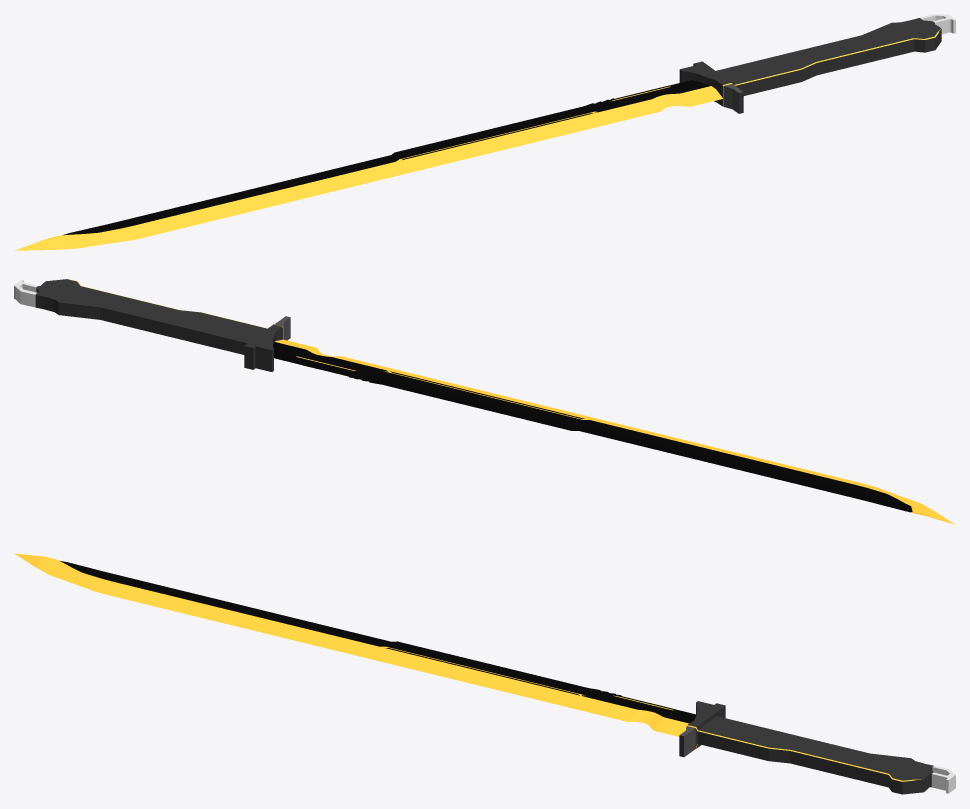
File: Sword.fbx
The picture shows the model from 3 angles, top to bottom: view 1: azimuth 30°, elevation 25°; view 2: azimuth 150°, elevation 25°; view 3: azimuth 330°, elevation 25°; orthographic projection.
Parts seen in each view (by area): view 1: Blade, SwordHold; view 2: Blade, SwordHold; view 3: Blade, SwordHold.
Part boxes in pixels (bbox=[...]): Blade: bbox=[15, 80, 722, 250]; SwordHold: bbox=[679, 14, 955, 113]; Blade: bbox=[273, 339, 955, 524]; SwordHold: bbox=[14, 279, 290, 371]; Blade: bbox=[14, 553, 696, 736]; SwordHold: bbox=[679, 701, 955, 794].
Bounding box in the file's own units: 934 × 21.45 × 71.29.
